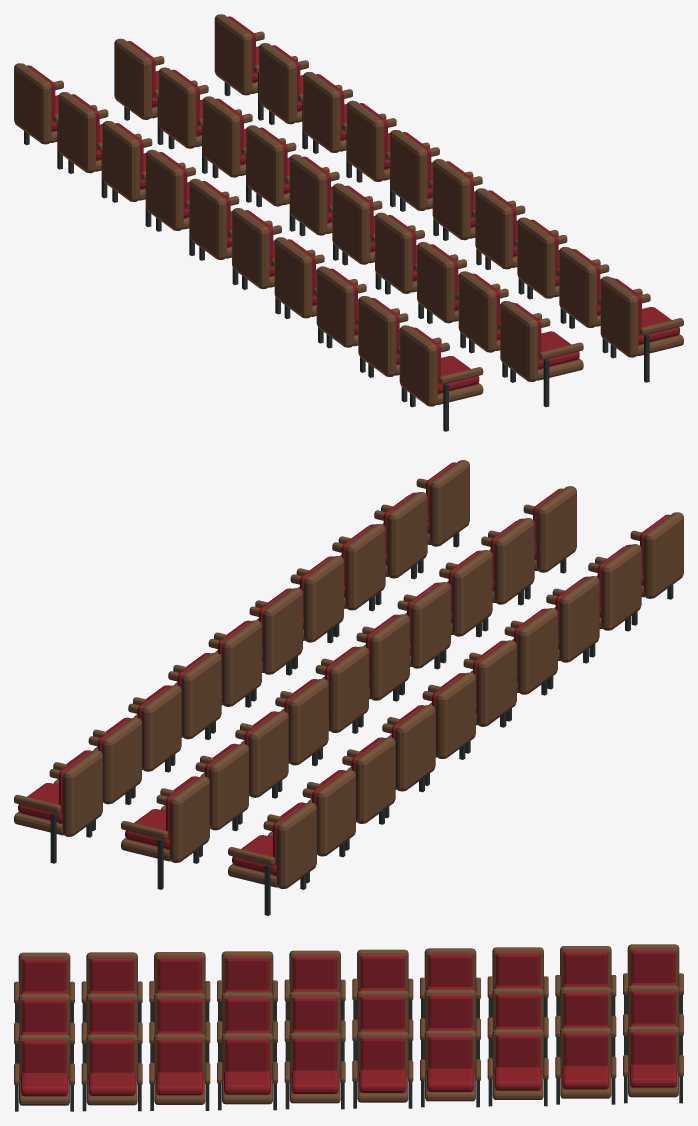
Rendered from SM_CP_AudienceSeatsLeft.fbx.
3 views of the same model, one above another, from view 1: azimuth 30°, elevation 25°; view 2: azimuth 150°, elevation 25°; view 3: azimuth 270°, elevation 25° (orthographic). The views are drawn at different scales.
Visible parts, largest first — view 1: SM_CP_AudienceSeatsLeft; view 2: SM_CP_AudienceSeatsLeft; view 3: SM_CP_AudienceSeatsLeft.
Boxes of the visible parts, left/top/right/bottom form: SM_CP_AudienceSeatsLeft: left=14, top=14, right=683, bottom=431; SM_CP_AudienceSeatsLeft: left=14, top=460, right=683, bottom=915; SM_CP_AudienceSeatsLeft: left=14, top=944, right=683, bottom=1111.
Size of what is drawn, in the model's own units: 443 by 1109 by 131.
